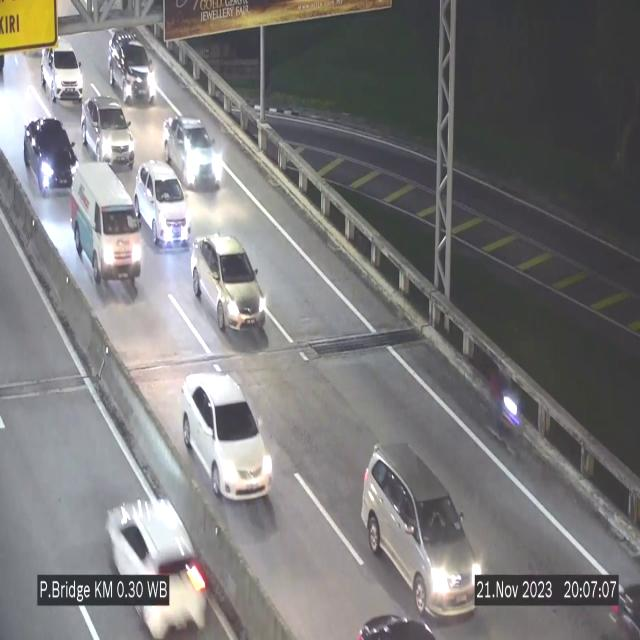Car: (93, 476, 220, 640), (368, 445, 480, 610), (182, 373, 273, 498), (72, 162, 144, 300), (190, 235, 266, 337), (26, 114, 82, 204), (135, 162, 192, 248), (163, 116, 223, 189), (81, 96, 134, 169), (108, 30, 156, 104), (41, 38, 83, 100)
Motorcycle: (491, 366, 527, 468)
